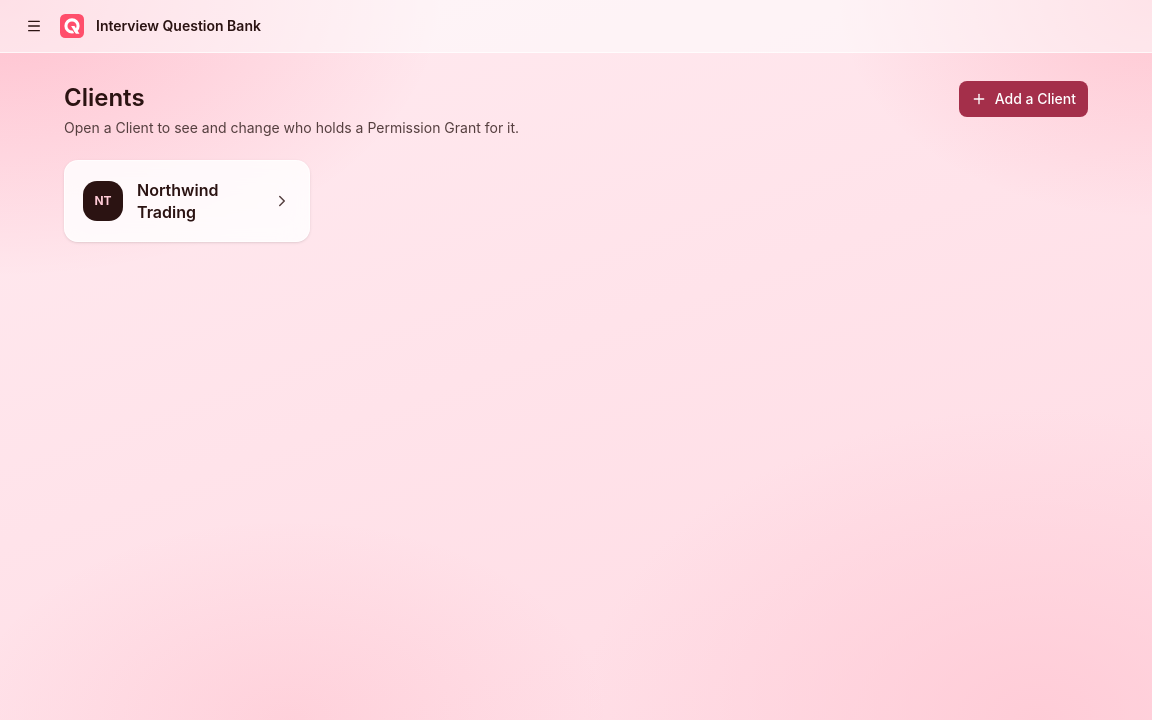
Test case: creating a Client from the administration console › reports the API's refusal of a name in use, in its own words
Expected: the heading "Clients" is shown, top-left (64, 83), bottom-right (145, 112)
Click the button "Add a Client" at (1023, 99), box top-left (959, 81), bottom-right (1088, 117)
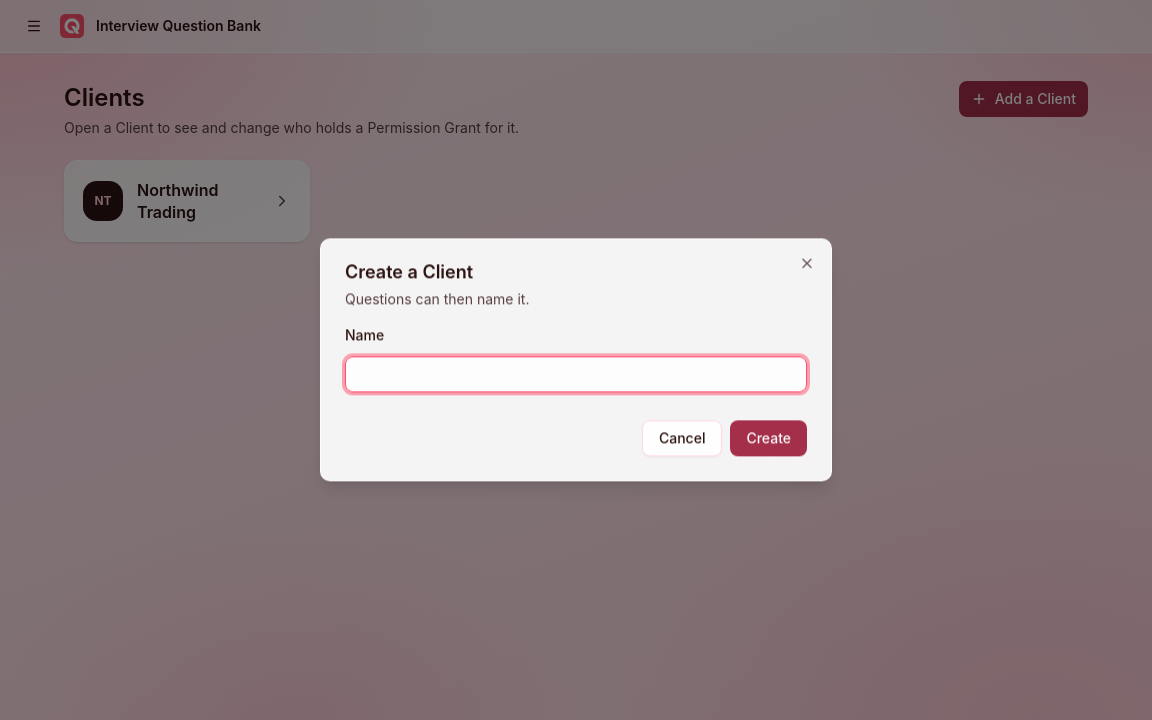
Type "Northwind Trading" into the field labelled "Name" at (576, 375), box top-left (345, 357), bottom-right (807, 393)
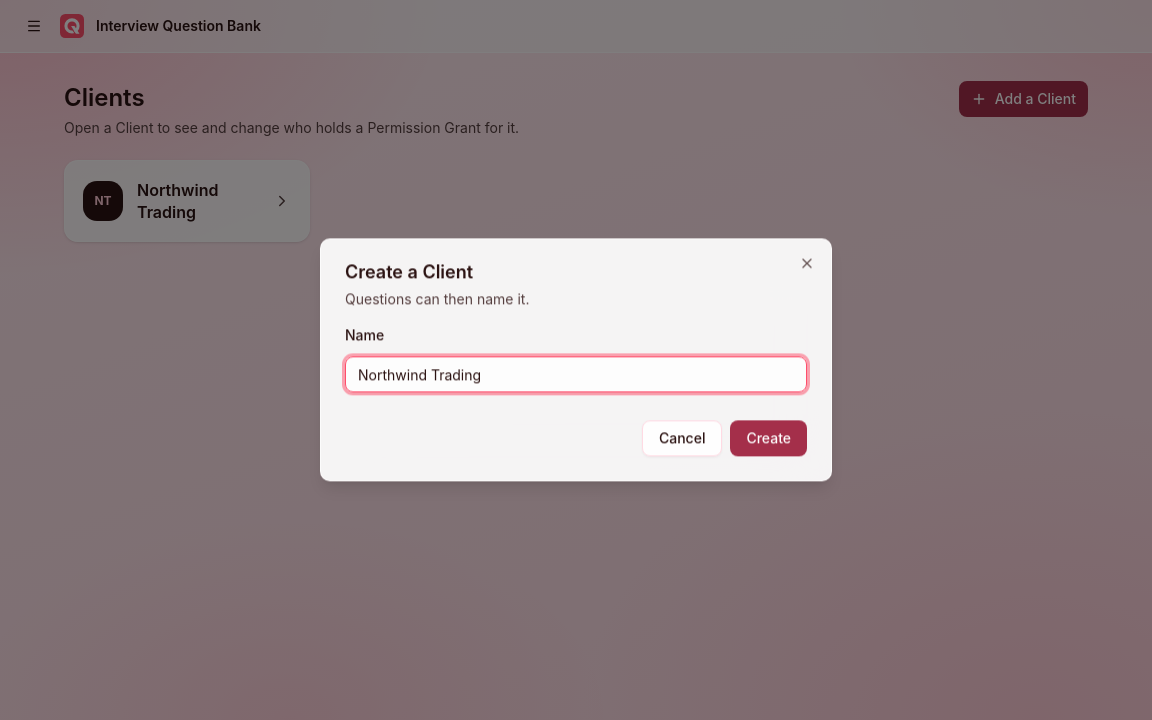
Click the button "Create" at (769, 439), box top-left (730, 421), bottom-right (807, 457)
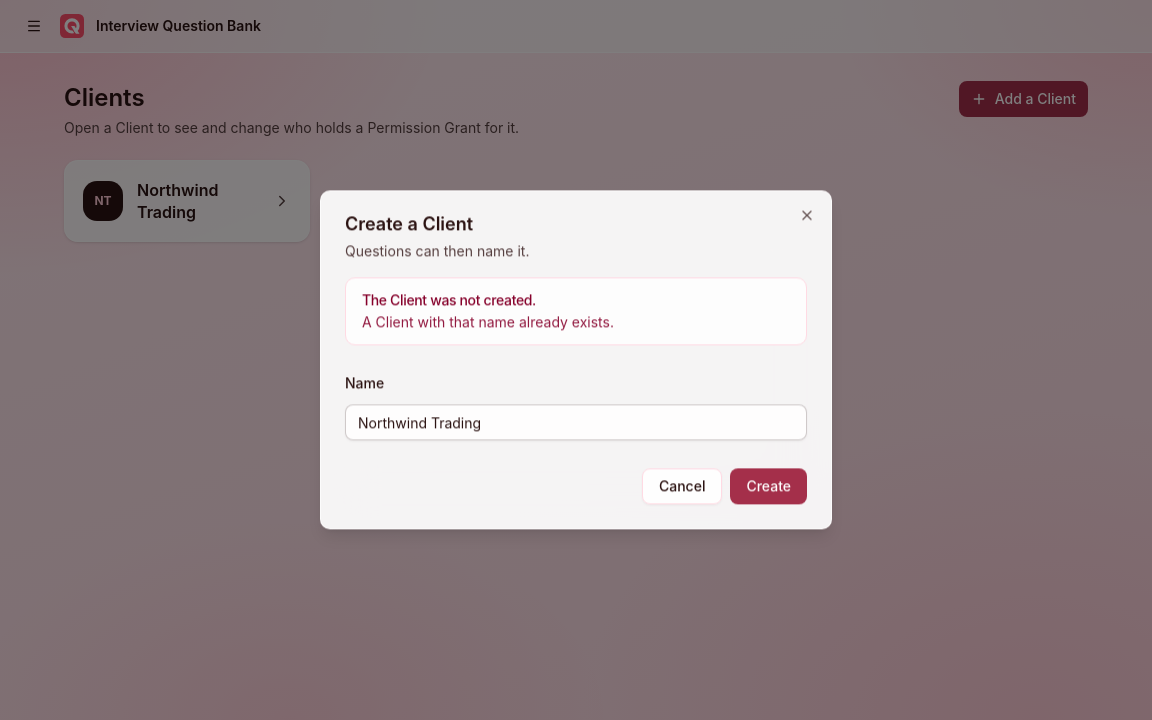
Expected: the text "The Client was not created." is shown, top-left (362, 291), bottom-right (536, 308)
Expected: the text "A Client with that name already exists." is shown, top-left (362, 313), bottom-right (614, 330)
